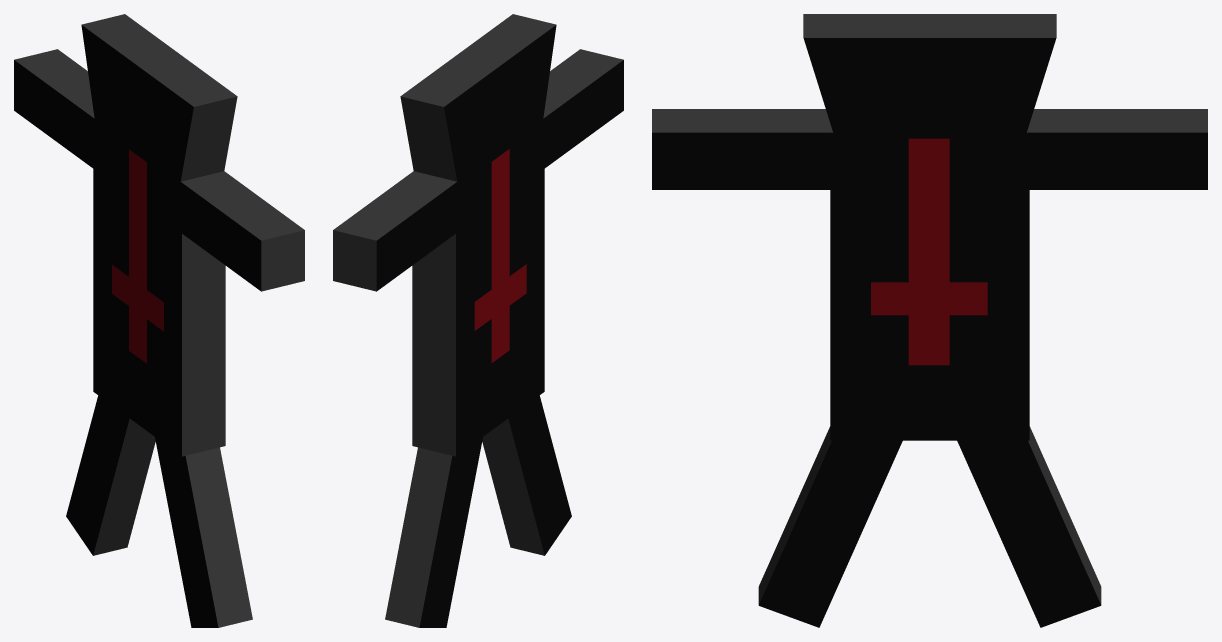
The model's file is simbolo1.fbx.
3 views of the same model, side by side, from view 1: azimuth 30°, elevation 25°; view 2: azimuth 150°, elevation 25°; view 3: azimuth 270°, elevation 25° (orthographic). The views are drawn at different scales.
Parts seen in each view (by area): view 1: Model; view 2: Model; view 3: Model.
Boxes of the visible parts, x1,y1,x2,y2 form: Model: (14, 14, 304, 627); Model: (333, 14, 623, 627); Model: (652, 14, 1207, 627).
Bounding box in the file's own units: 1.9 × 21.94 × 18.65.
